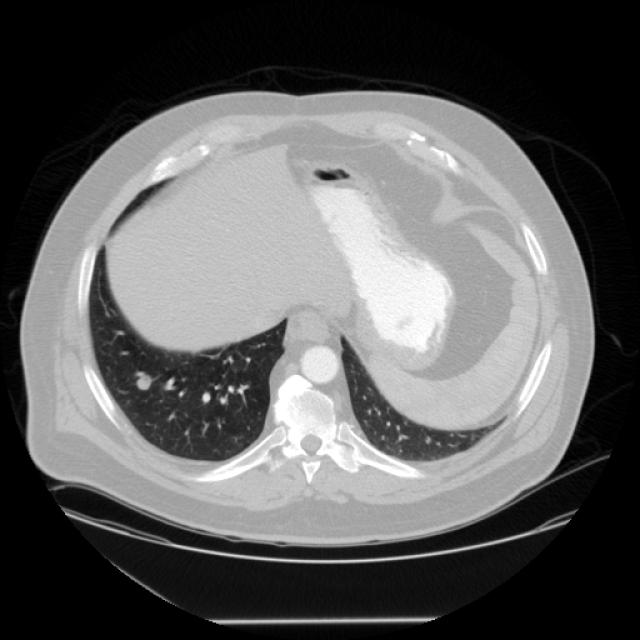nodule: (126, 365, 159, 397)
